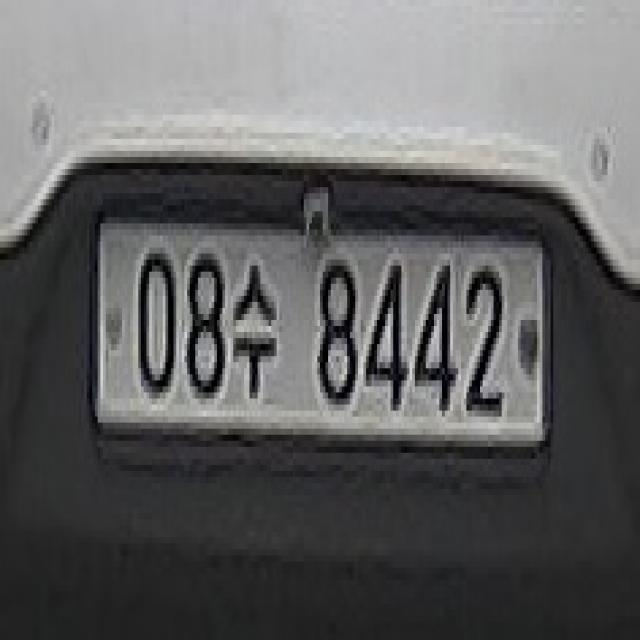0: (134, 244, 180, 408)
2: (464, 249, 513, 430)
4: (413, 252, 461, 416), (362, 256, 410, 417)
8: (316, 249, 360, 416), (184, 247, 228, 401)
license_plate: (85, 194, 562, 496)
su: (232, 252, 280, 406)
